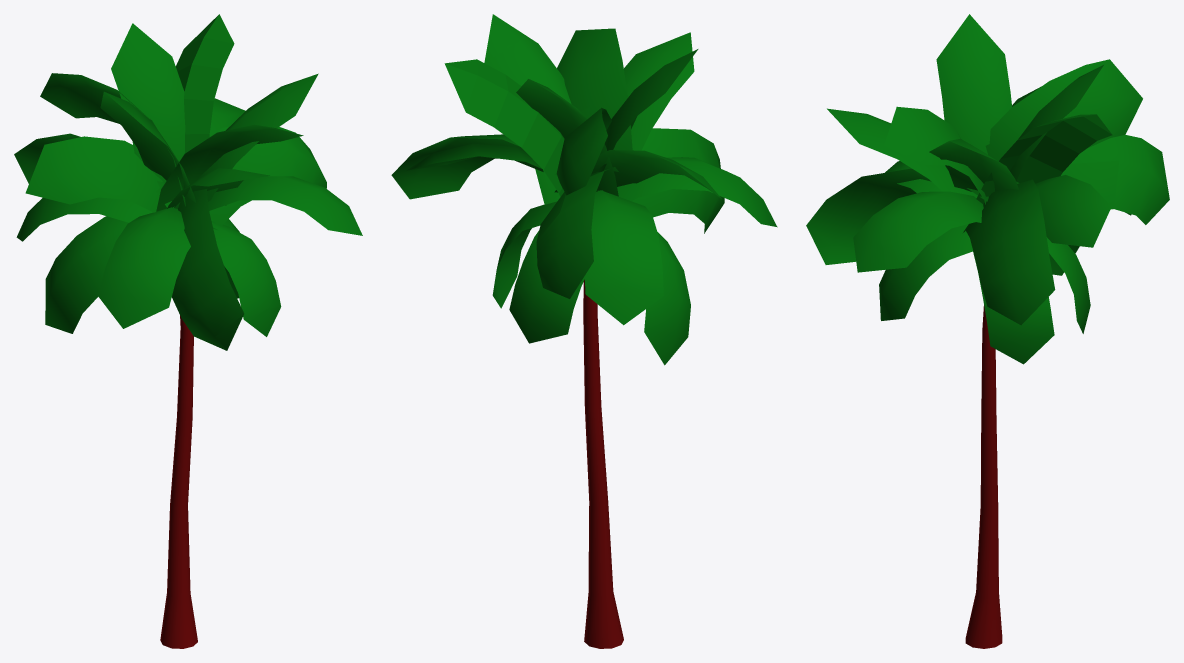
Rendered from Palm-01.fbx.
The picture shows the model from 3 angles, left to right: view 1: azimuth 30°, elevation 25°; view 2: azimuth 150°, elevation 25°; view 3: azimuth 270°, elevation 25°; orthographic projection. The views are drawn at different scales.
Visible parts, largest first — view 1: palm-01; view 2: palm-01; view 3: palm-01.
Boxes of the visible parts, left/top/right/bottom form: palm-01: left=14, top=14, right=362, bottom=648; palm-01: left=391, top=14, right=777, bottom=648; palm-01: left=806, top=14, right=1169, bottom=648.
Size of what is drawn, in the model's own units: 3.47 by 6.38 by 3.59.
